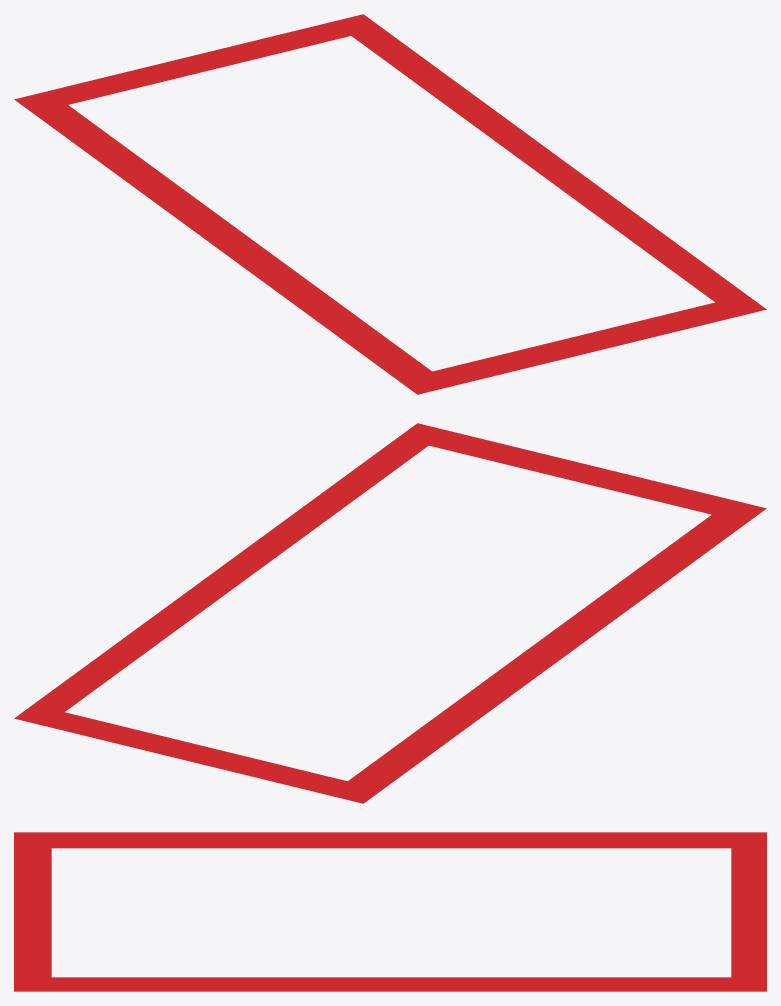
The model's file is EndPointOutline.fbx.
The picture shows the model from 3 angles, top to bottom: view 1: azimuth 30°, elevation 25°; view 2: azimuth 150°, elevation 25°; view 3: azimuth 270°, elevation 25°; orthographic projection. The views are drawn at different scales.
Visible parts, largest first — view 1: Plane; view 2: Plane; view 3: Plane.
Part boxes in pixels (x1,y1,x2,y2): Plane: (14, 14, 766, 394); Plane: (14, 423, 766, 803); Plane: (14, 832, 766, 991).
Size of the model in its own units: 200 by 6.52e-05 by 400.
